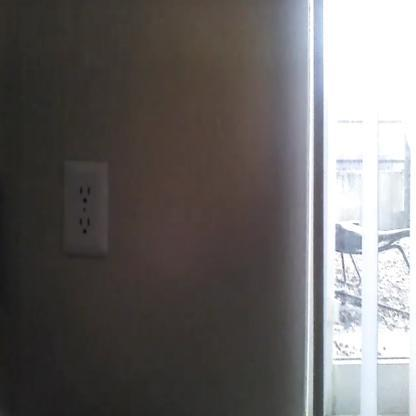OUTLET: (63, 162, 107, 256)
